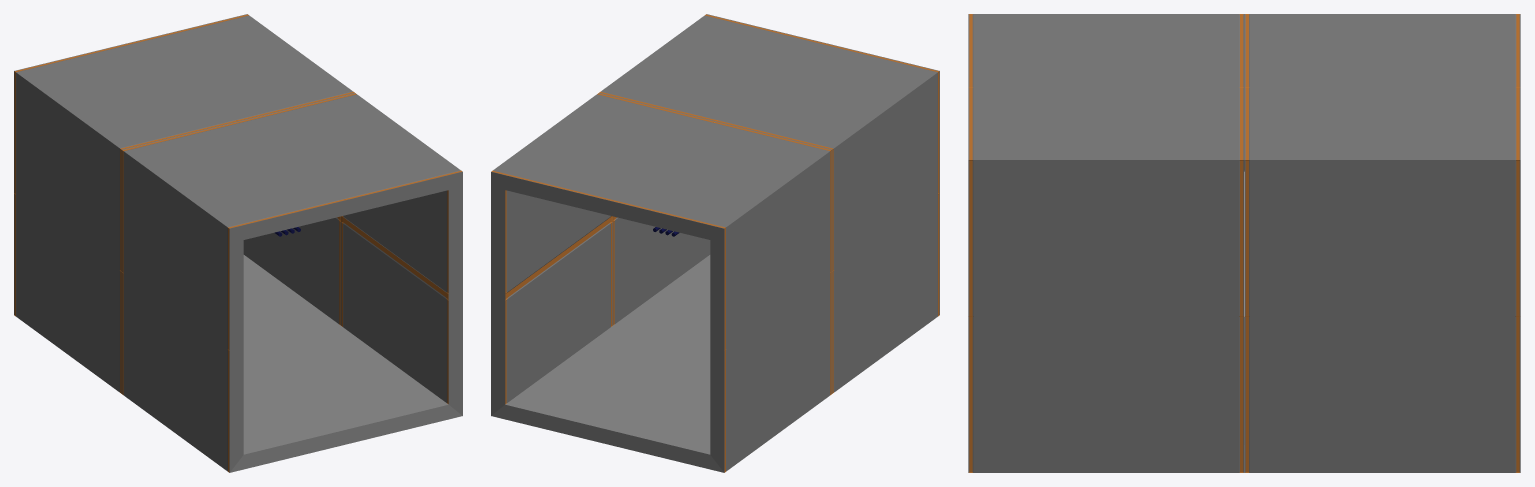
Rendered from Tunnel.fbx.
3 renders of one model, left to right at view 1: azimuth 30°, elevation 25°; view 2: azimuth 150°, elevation 25°; view 3: azimuth 270°, elevation 25°, orthographic. The views are drawn at different scales.
Visible parts, largest first — view 1: Pipes; view 2: Pipes; view 3: Pipes.
Part boxes in pixels (x1=…): Pipes: x1=14, y1=14, x2=462, y2=472; Pipes: x1=491, y1=14, x2=939, y2=472; Pipes: x1=968, y1=14, x2=1520, y2=472.
Size of the model in its own units: 1000 by 1000 by 1600.
